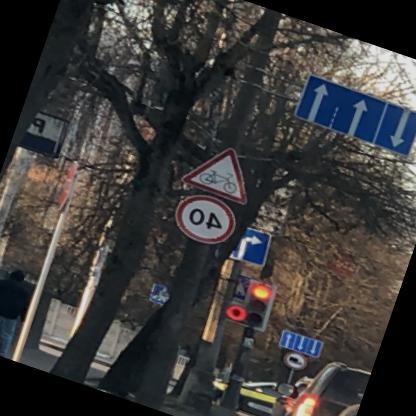crosswalk: (150, 283, 176, 306)
speedlimit: (171, 187, 244, 252)
trafficlight: (224, 274, 278, 331)
